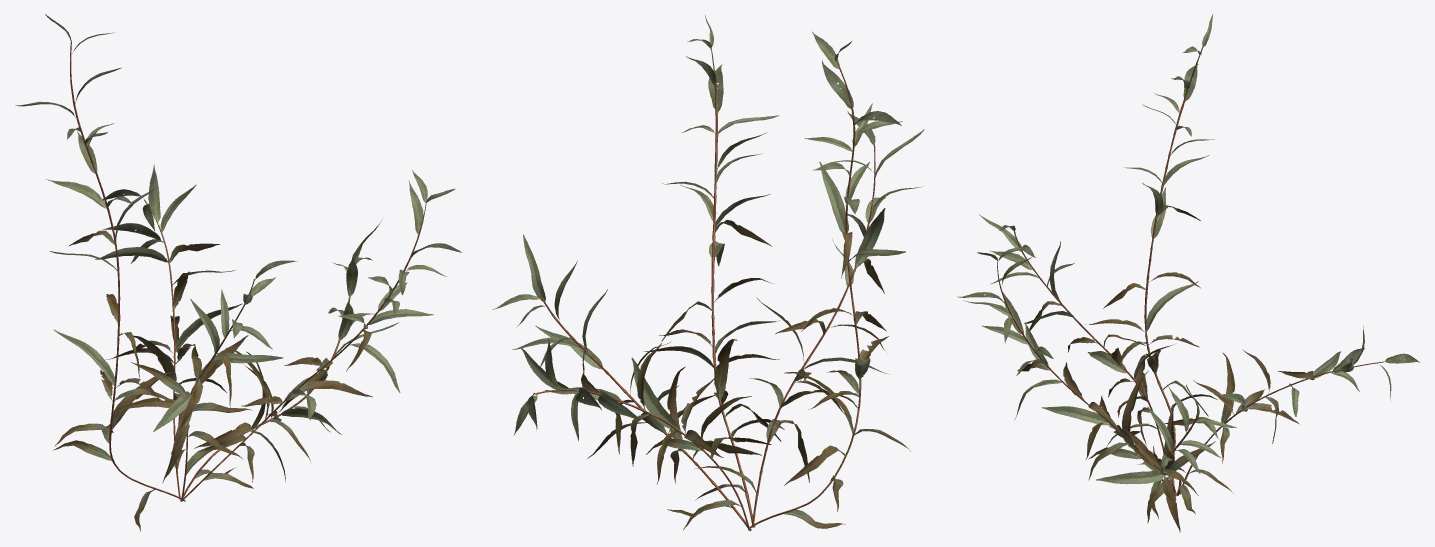
The model's file is rounded-shrub-lod0.glb.
The picture shows the model from 3 angles, left to right: view 1: azimuth 30°, elevation 25°; view 2: azimuth 150°, elevation 25°; view 3: azimuth 270°, elevation 25°; orthographic projection. The views are drawn at different scales.
Parts seen in each view (by area): view 1: shrub_02_a; view 2: shrub_02_a; view 3: shrub_02_a.
Part boxes in pixels (<box>): shrub_02_a: <box>15,14,461,531</box>; shrub_02_a: <box>492,15,924,531</box>; shrub_02_a: <box>957,14,1419,532</box>.
Size of the model in its own units: 1.31 by 1.69 by 1.64.
Materials: 1 (1 with a texture image).
